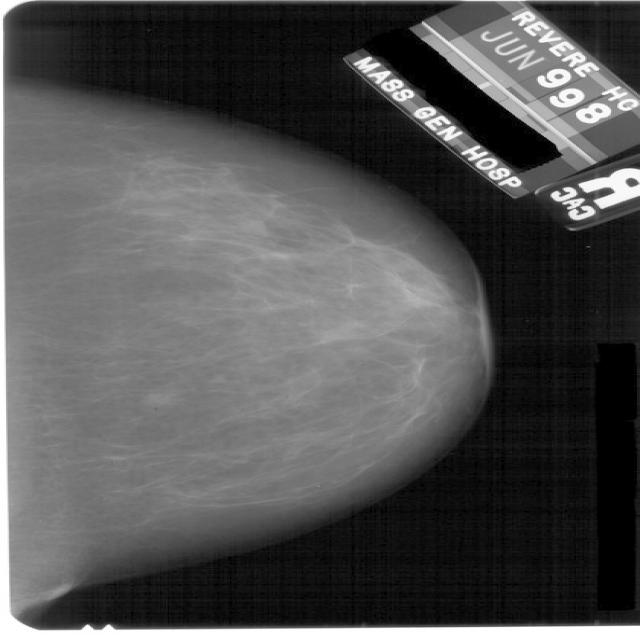tumour: (139, 387, 186, 407)
